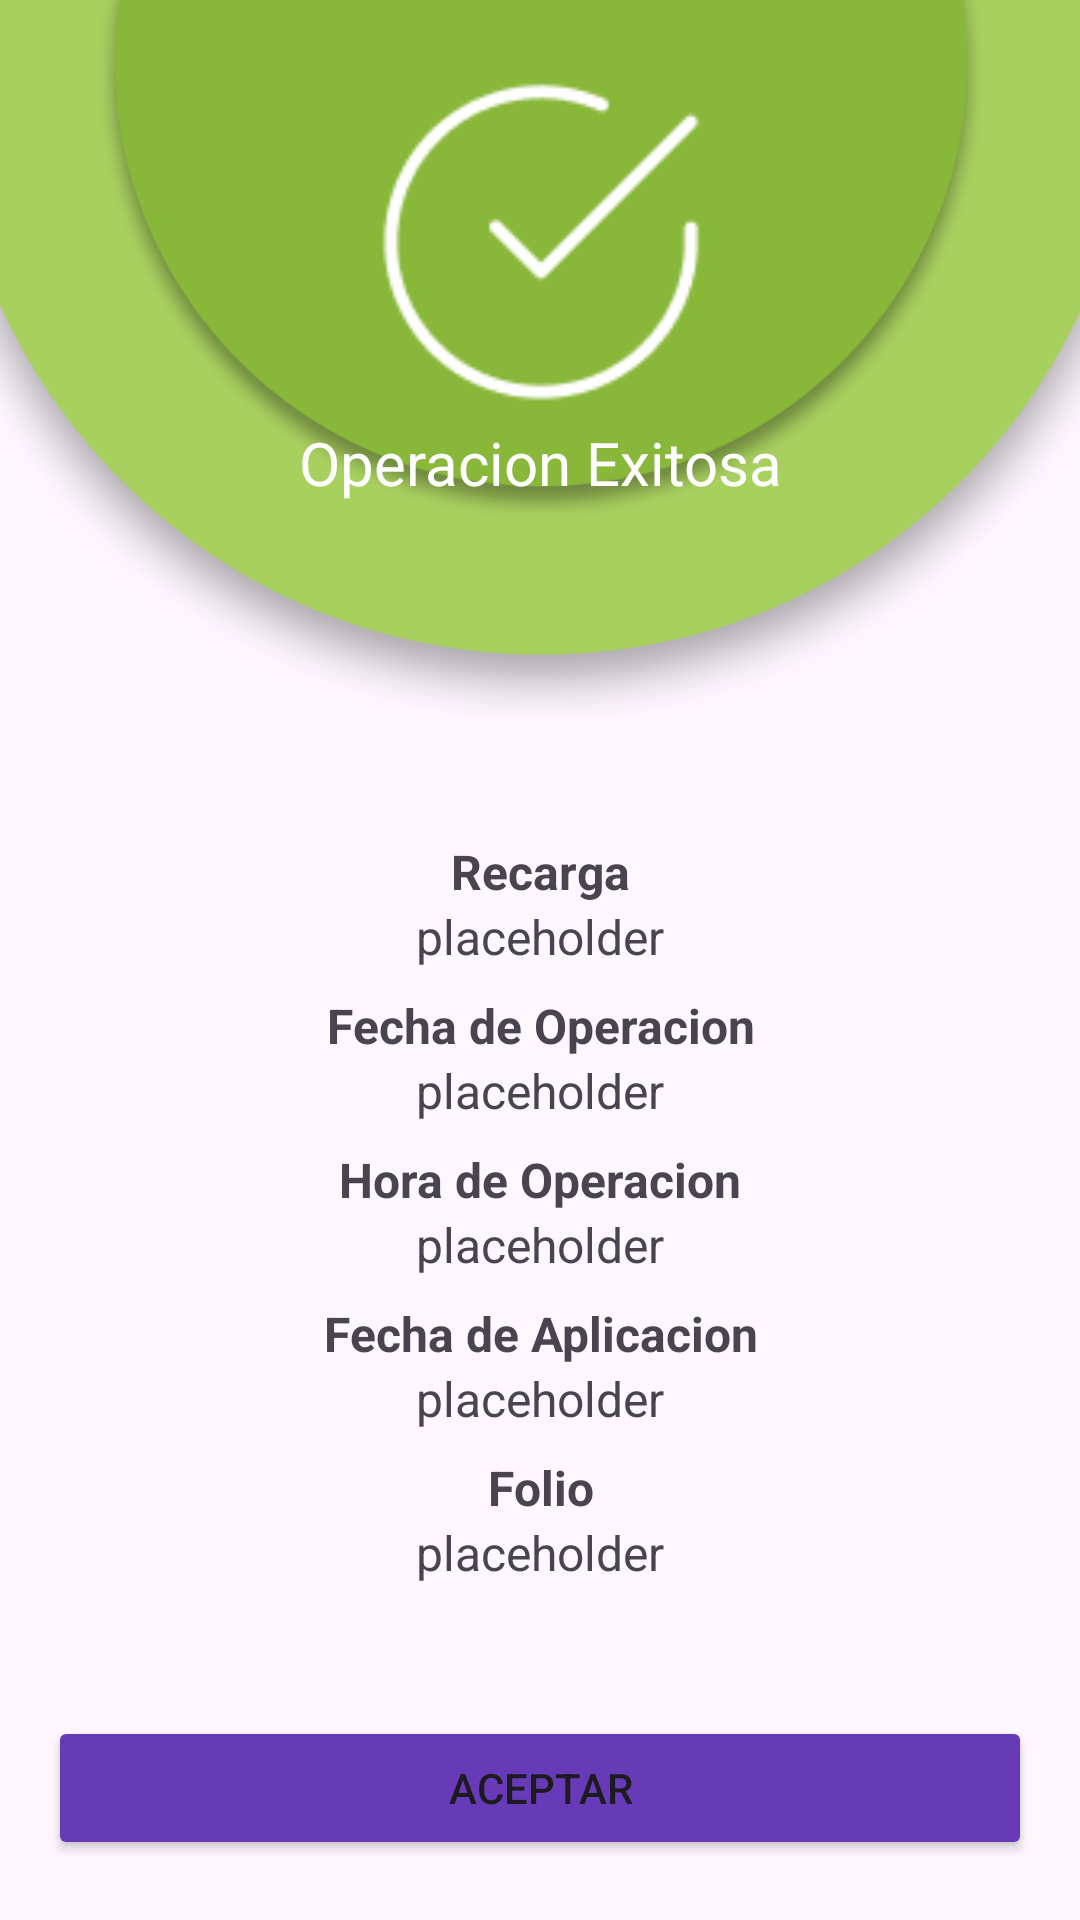

Screen size 1080×1920. Icon name, then its center in pixels as [x,y]:
check circle: [541,241]
